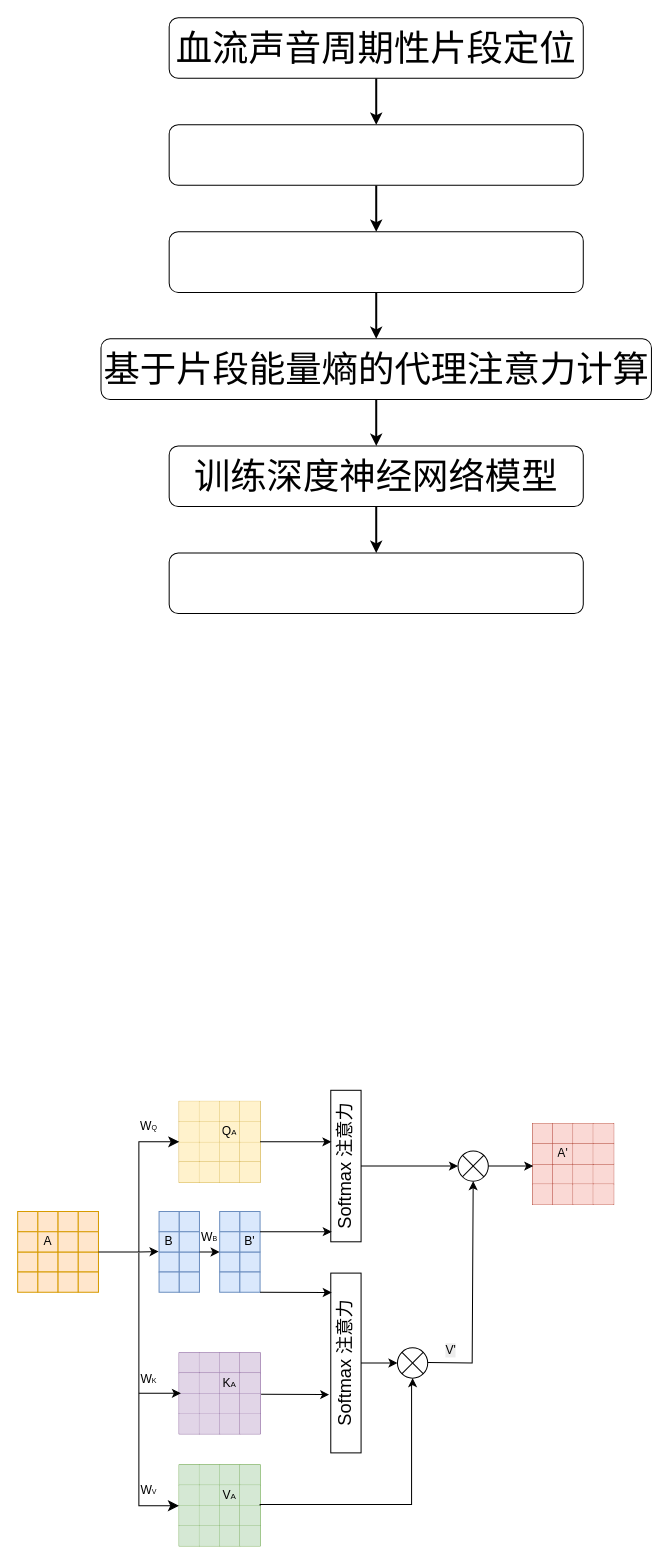
This 670x1563 diagram has some shape labels left out. The shapes that lost their labels are listed below. From the top down, each one's centre as x and y in pixels, then its label:
pixel 375 154: 对数梅尔谱特征提取
pixel 375 261: 片段能量熵提取
pixel 375 583: 诊断动静脉瘘狭窄
